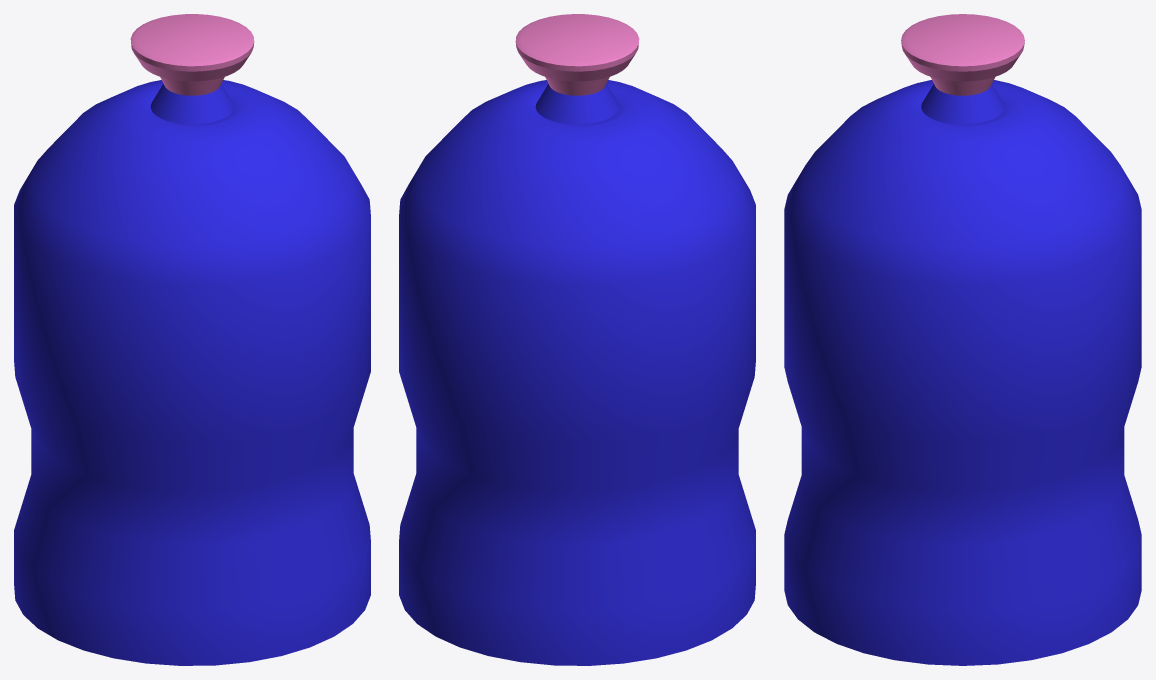
Rendered from bottle42.glb.
3 views of the same model, side by side, from view 1: azimuth 30°, elevation 25°; view 2: azimuth 150°, elevation 25°; view 3: azimuth 270°, elevation 25° (orthographic).
Visible parts, largest first — view 1: Bottle42; view 2: Bottle42; view 3: Bottle42.
Part boxes in pixels (left/top/right/bottom): Bottle42: left=14, top=14, right=370, bottom=665; Bottle42: left=399, top=14, right=755, bottom=665; Bottle42: left=784, top=14, right=1141, bottom=665.
Bounding box in the file's own units: 1.5 × 2.57 × 1.5.
